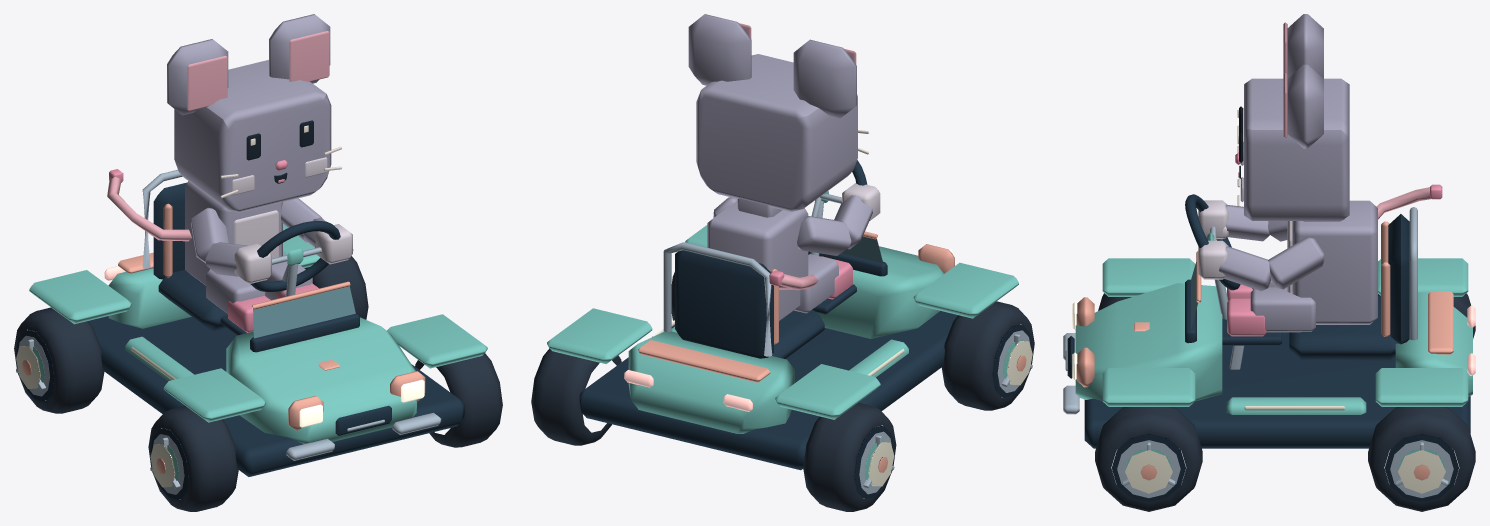
File: kart_tikus_low.glb
3 renders of one model, left to right at view 1: azimuth 30°, elevation 25°; view 2: azimuth 150°, elevation 25°; view 3: azimuth 270°, elevation 25°, orthographic. The views are drawn at different scales.
Parts seen in each view (by area): view 1: chassis, driver_pose, wheel_rl_spin, wheel_fl_spin, wheel_fr_spin, ear_l, ear_r, steering, wheel_rr_spin, tail, eyes; view 2: chassis, driver_pose, wheel_rl_spin, wheel_fl_spin, wheel_rr_spin, ear_l, ear_r, tail; view 3: chassis, driver_pose, wheel_rr_spin, wheel_fr_spin, ear_r, ear_l, steering, tail.
Part boxes in pixels (x1,y1,x2,y2): chassis: [29, 169, 487, 476]; driver_pose: [174, 60, 352, 332]; wheel_rl_spin: [14, 307, 104, 413]; wheel_fl_spin: [148, 405, 238, 511]; wheel_fr_spin: [415, 353, 502, 447]; ear_l: [167, 39, 228, 115]; ear_r: [269, 14, 330, 83]; steering: [250, 221, 340, 291]; wheel_rr_spin: [304, 256, 368, 319]; tail: [107, 169, 191, 241]; eyes: [246, 120, 313, 160]; chassis: [547, 200, 1018, 470]; driver_pose: [696, 54, 880, 320]; wheel_rl_spin: [803, 402, 896, 511]; wheel_fl_spin: [941, 301, 1034, 410]; wheel_rr_spin: [531, 348, 621, 445]; ear_l: [793, 39, 856, 118]; ear_r: [688, 14, 751, 85]; tail: [769, 270, 818, 290]; chassis: [1063, 207, 1475, 448]; driver_pose: [1198, 78, 1377, 336]; wheel_rr_spin: [1368, 407, 1475, 511]; wheel_fr_spin: [1095, 407, 1202, 511]; ear_r: [1283, 64, 1323, 148]; ear_l: [1283, 14, 1323, 78]; steering: [1185, 194, 1240, 290]; tail: [1376, 184, 1442, 219].
Size of what is drawn, in the model's own units: 1.48 by 1.65 by 1.57.
